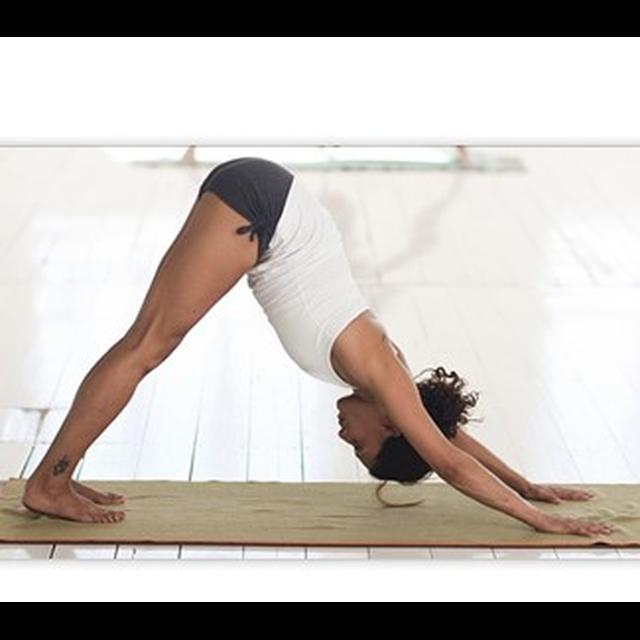Downward-Facing_Dog: (15, 151, 621, 538)
